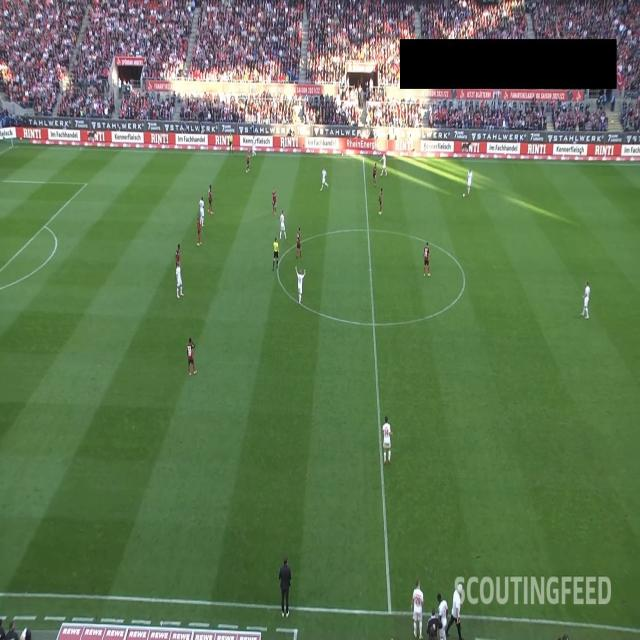ball: (463, 193, 465, 198)
